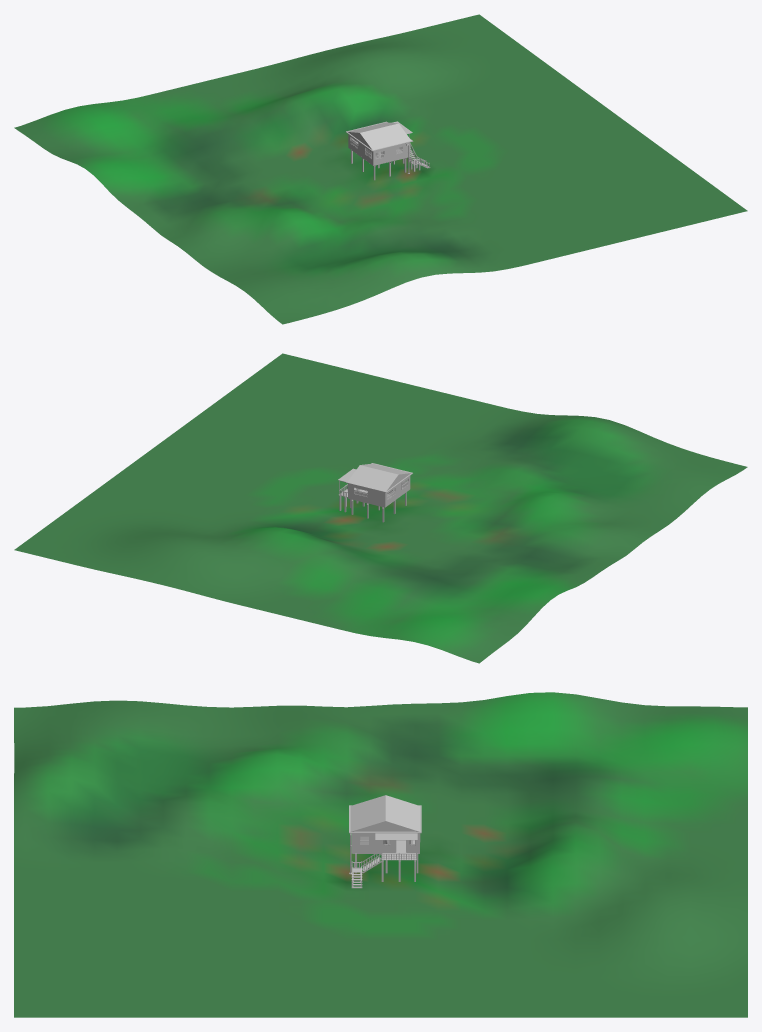
The model's file is House.fbx.
3 renders of one model, top to bottom at view 1: azimuth 30°, elevation 25°; view 2: azimuth 150°, elevation 25°; view 3: azimuth 270°, elevation 25°, orthographic. The views are drawn at different scales.
Parts seen in each view (by area): view 1: House; view 2: House; view 3: House.
Boxes of the visible parts, <box> form: House: <box>14,14,747,324</box>; House: <box>14,353,747,663</box>; House: <box>14,692,747,1017</box>.
Size of the model in its own units: 100 by 8.37 by 100.
